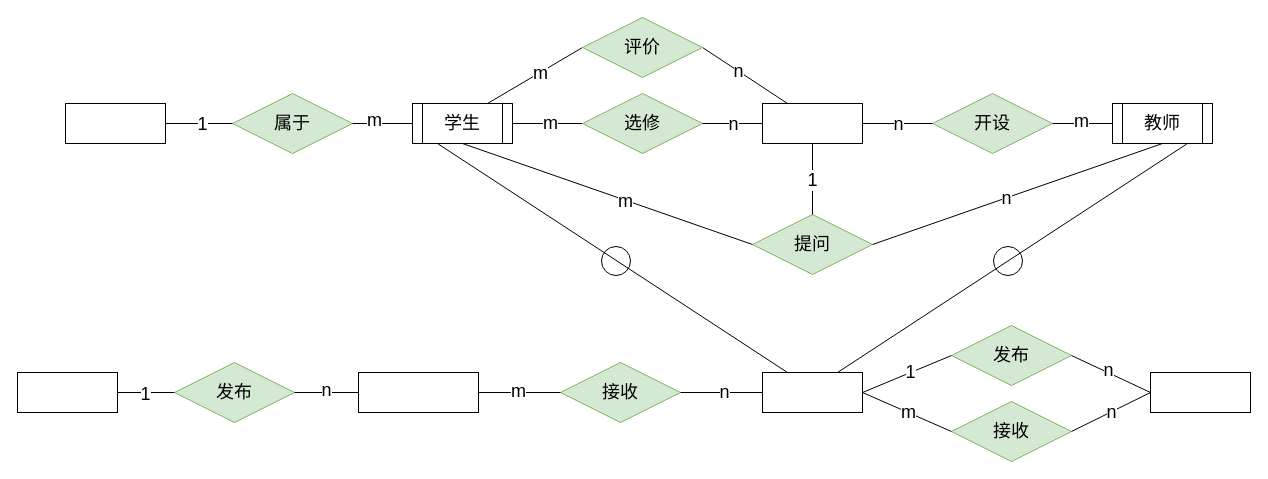
Image size: 1268x479. Some labels were removed from this diagram. The centre of each missing label's shape, as x and y in pixels:
"专业" belongs at (x=115, y=123).
"用户" belongs at (x=812, y=392).
"管理员" belongs at (x=67, y=392).
"管理员公告" belongs at (x=418, y=392).
"课程" belongs at (x=812, y=123).
"通知" belongs at (x=1200, y=392).
